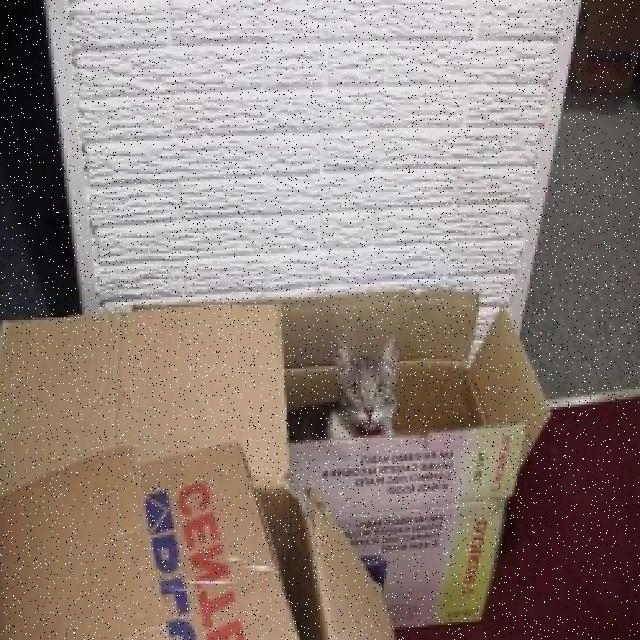box: (0, 302, 420, 640), (97, 294, 507, 640), (0, 430, 307, 640)
